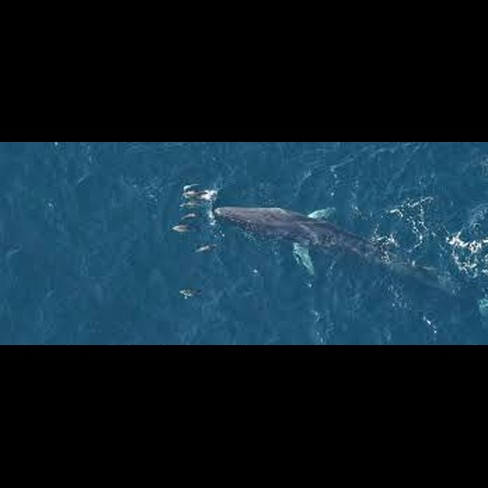bluewhale: (212, 203, 479, 303)
